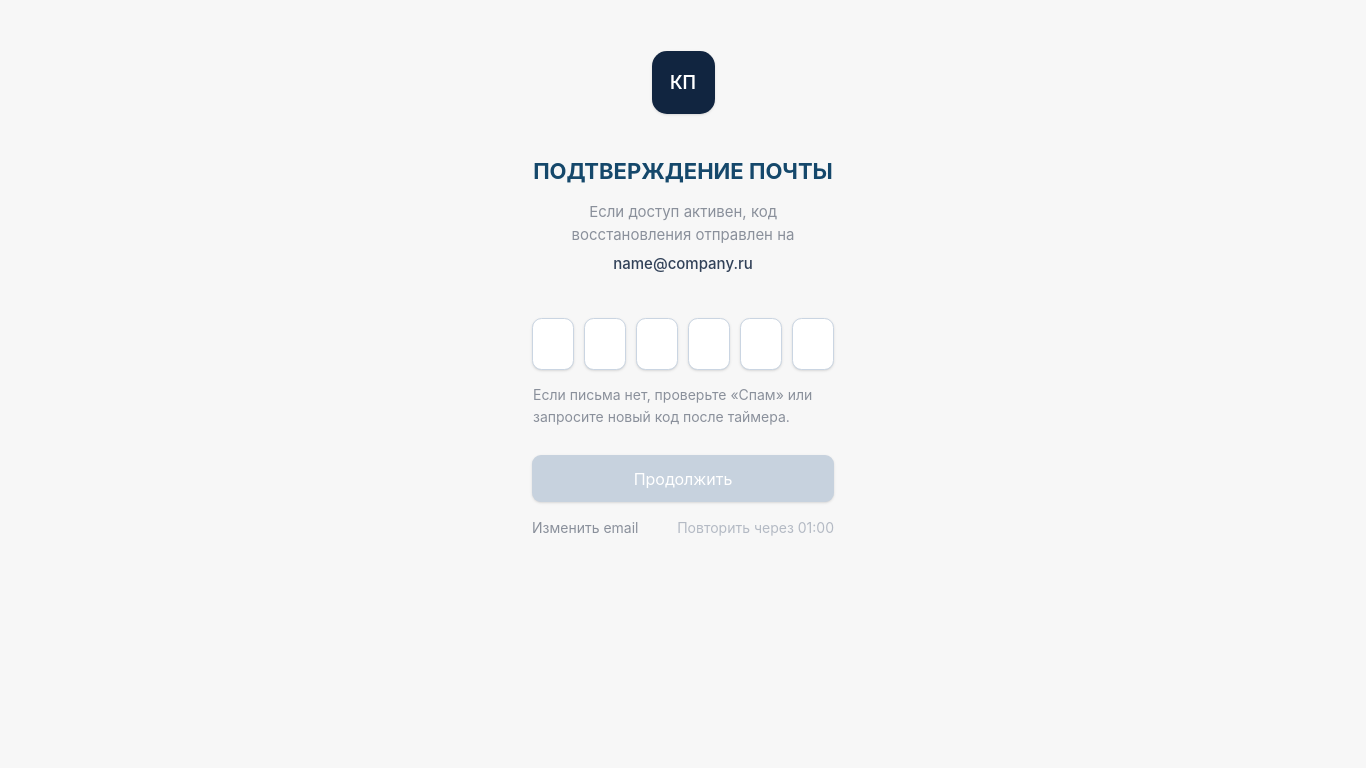
Test: Password reset pages › shows the password reset invalid-code backend error without opening set-password
Click the field named "Код из письма" at (553, 344), box [532,318,574,370]
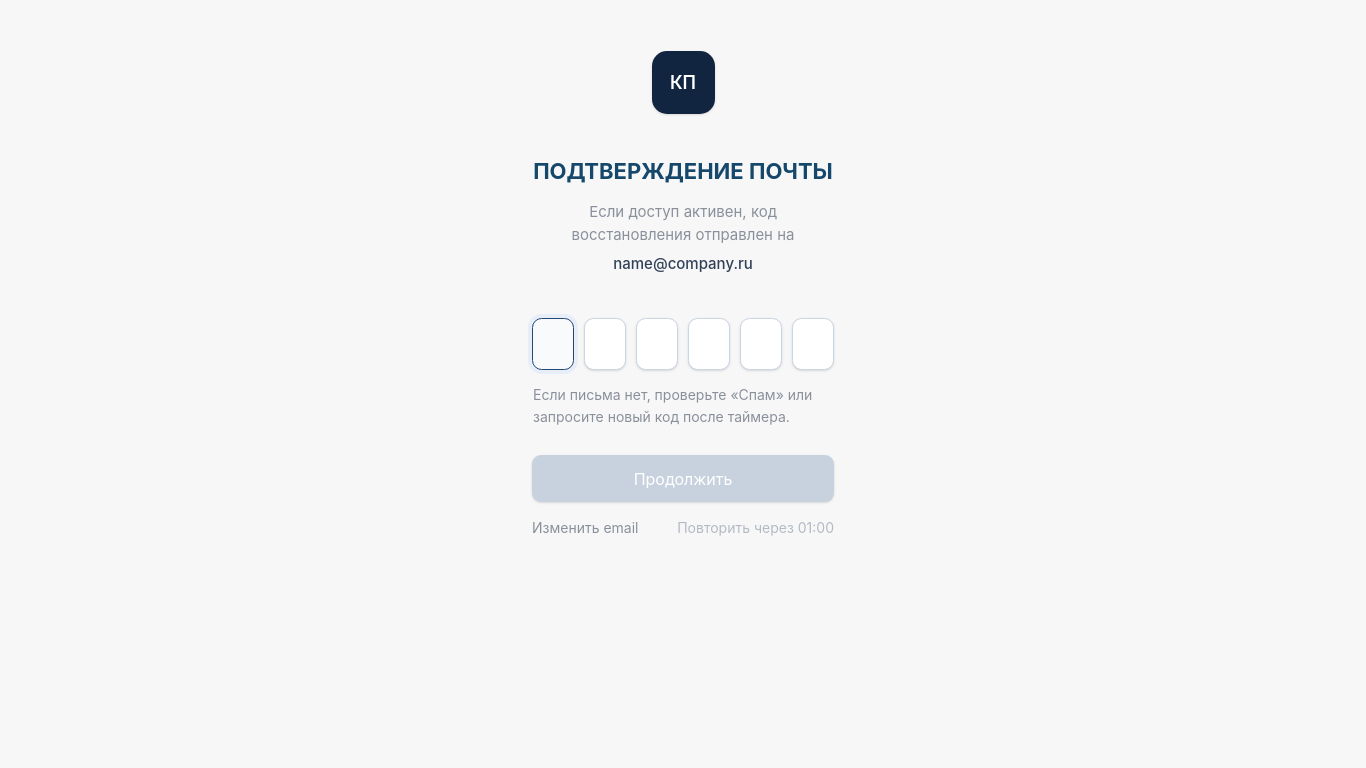
Type keys "000000"
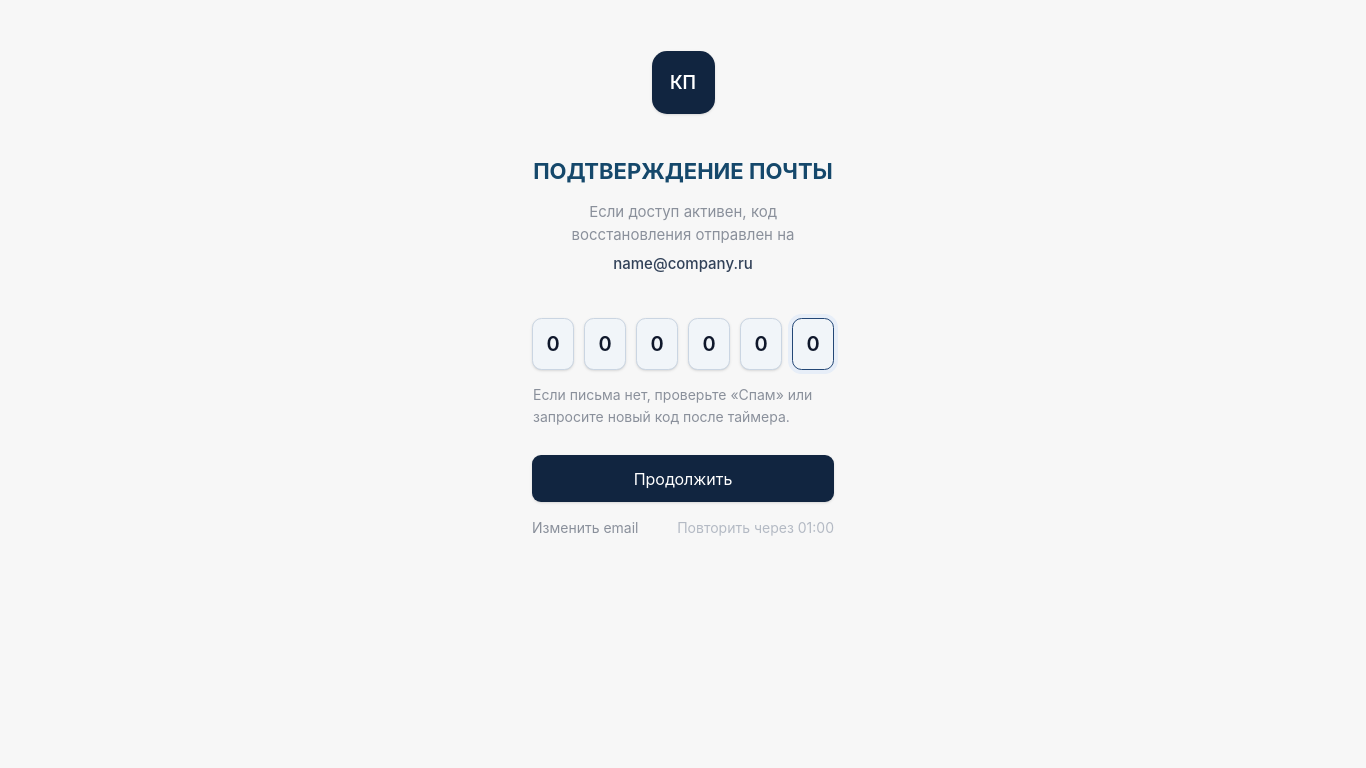
Click the button "Продолжить" at (683, 478), box [532,455,834,502]
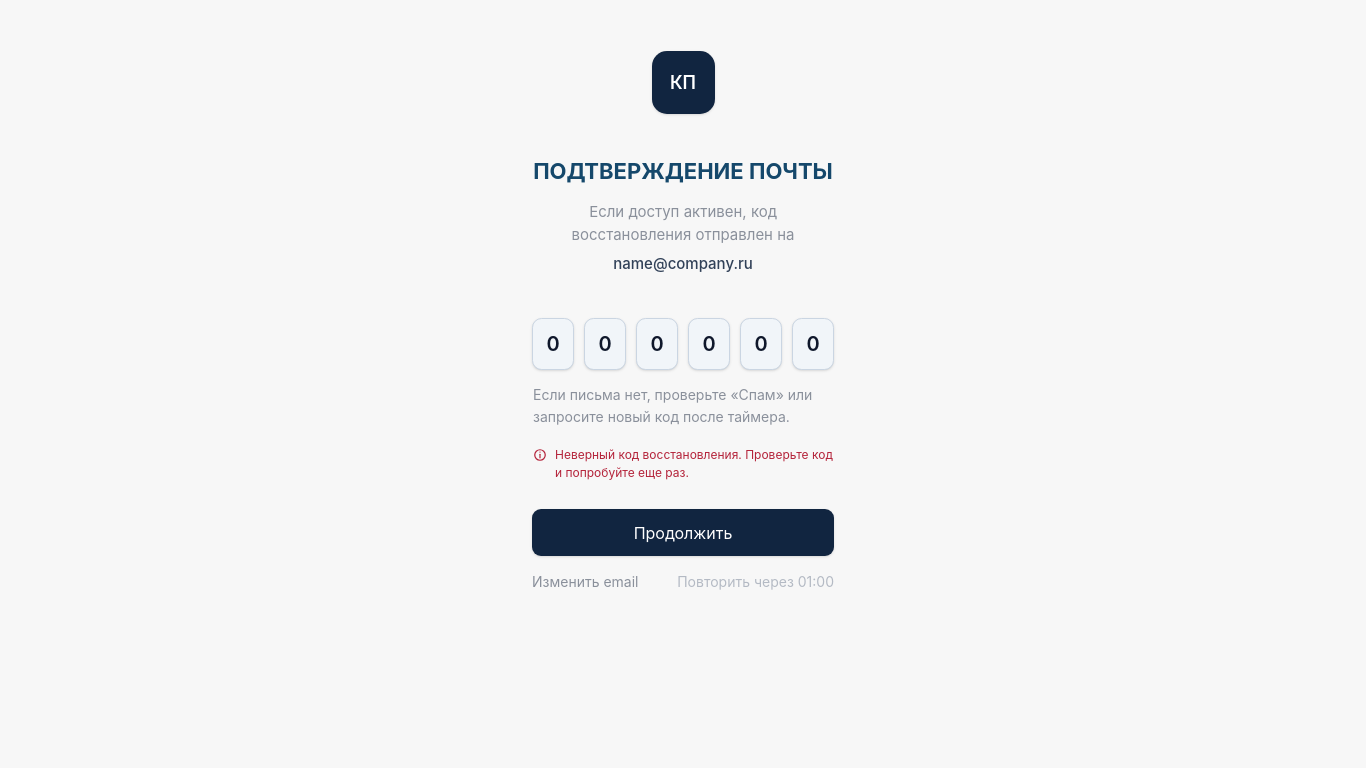
Check: the text "Неверный код восстановления. Проверьте код и попробуйте еще раз." is shown, box [555,446,833,482]
